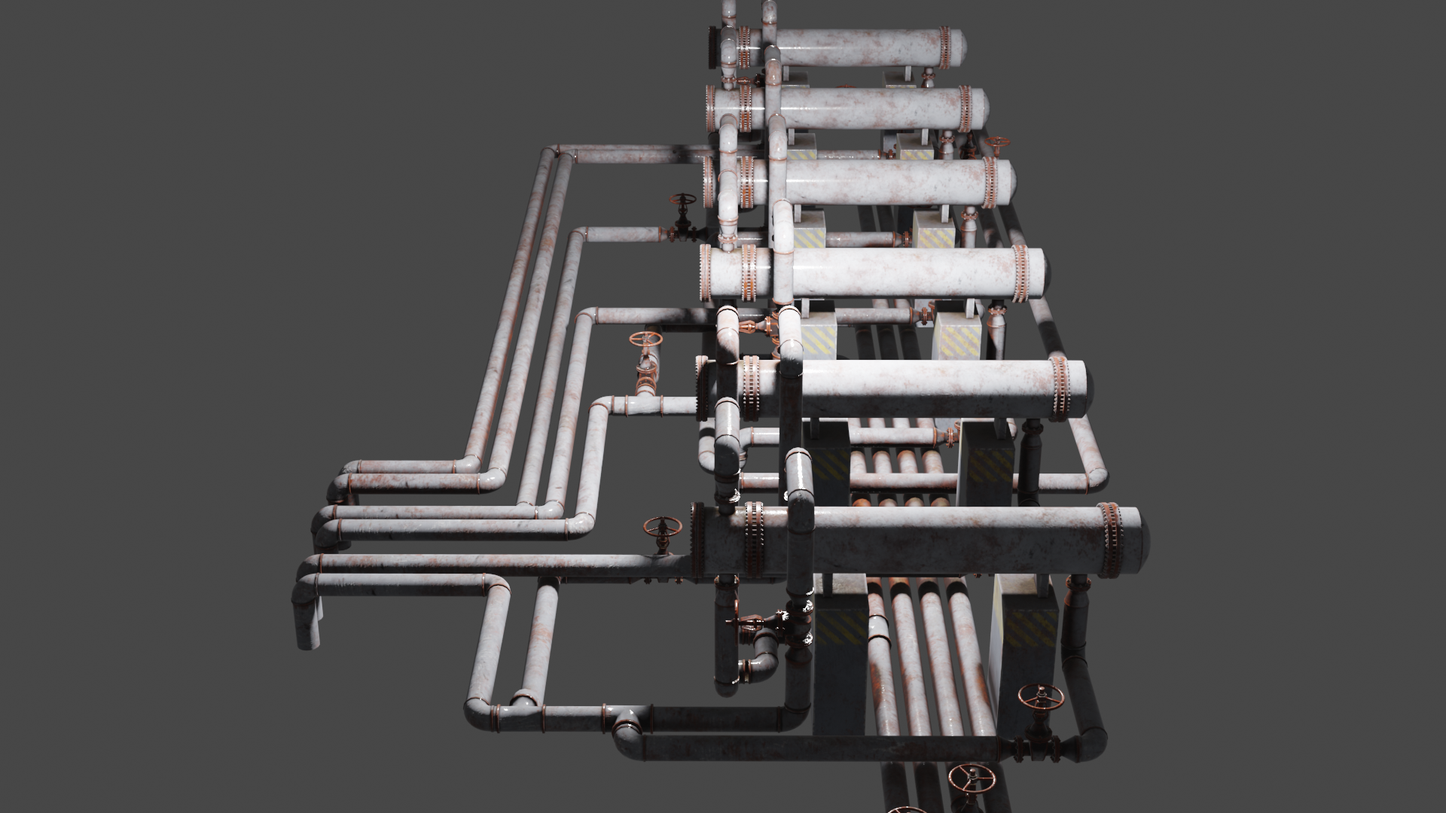HE_1: (708, 25, 967, 65)
HE_2: (703, 83, 991, 128)
HE_3: (701, 153, 1017, 206)
HE_4: (697, 245, 1051, 300)
HE_5: (694, 355, 1090, 417)
HE_6: (692, 497, 1150, 580)
